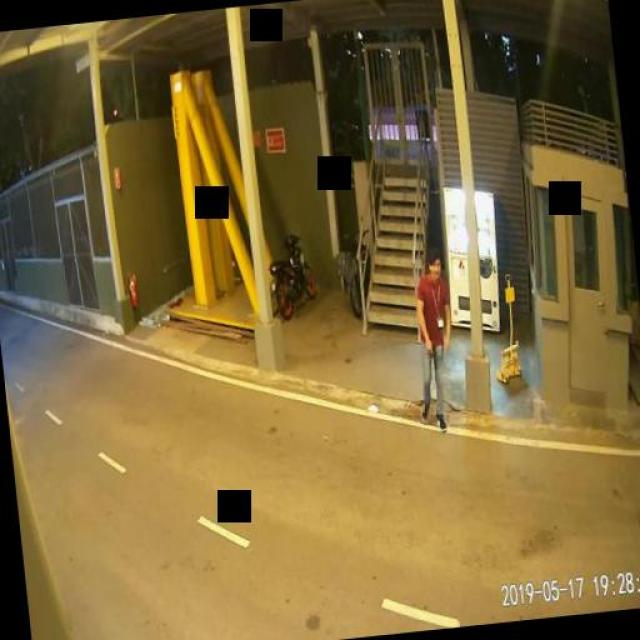gun: (424, 339, 436, 369)
